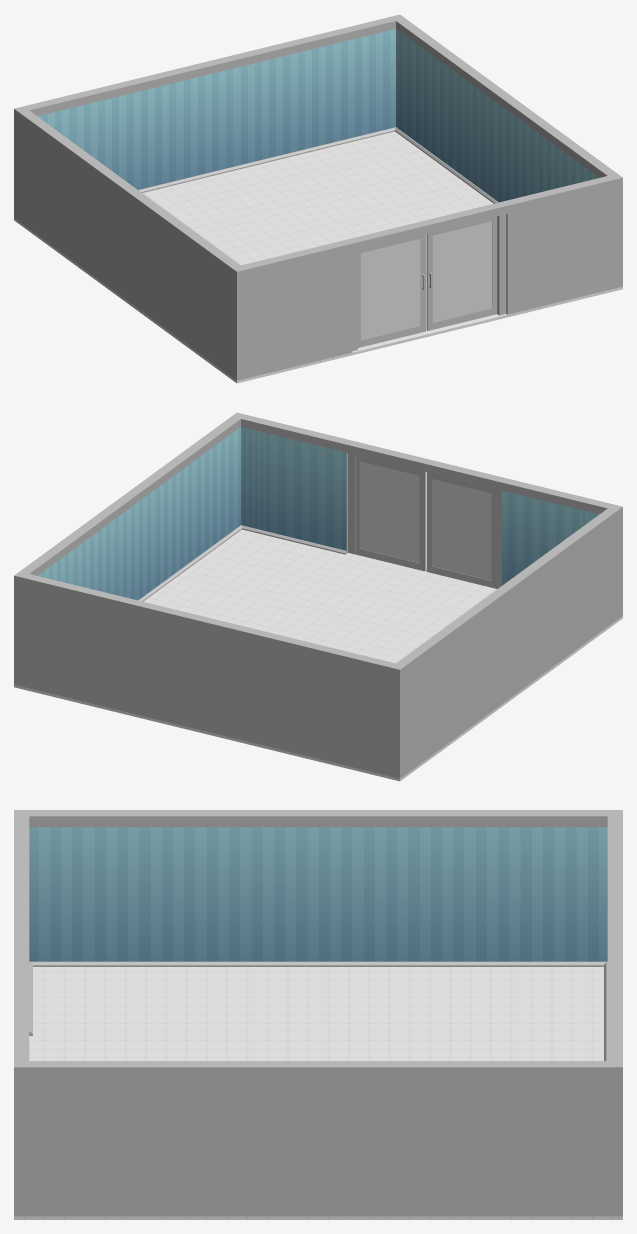
The model's file is Kitchen.fbx.
3 views of the same model, one above another, from view 1: azimuth 30°, elevation 25°; view 2: azimuth 150°, elevation 25°; view 3: azimuth 270°, elevation 25° (orthographic). The views are drawn at different scales.
Parts seen in each view (by area): view 1: Wall Back, Ground, Wall R, Cube.002, Wall L, Wall Front 1.001, Wall Front 2.001, Door L, Door R, Wall Front R Corner, Wall Front L Corner, Wall L Corner (+4 smaller); view 2: Wall Back, Ground, Wall R, Cube.002, Wall L, Wall Front 1.001, Door R, Door L, Wall R Corner, Wall Front 2.001, Wall Front L Corner, Wall L Corner (+4 smaller); view 3: Wall L, Wall R, Ground, Cube.002, Wall L Corner, Wall Front L Corner, Wall R Corner, Wall Front R Corner, Ground Detail.
Part boxes in pixels (<box>): Wall Back: <box>51,34,373,189</box>; Ground: <box>14,131,622,383</box>; Wall R: <box>32,130,218,366</box>; Cube.002: <box>14,14,622,279</box>; Wall L: <box>409,38,594,202</box>; Wall Front 1.001: <box>506,195,585,314</box>; Wall Front 2.001: <box>274,252,352,371</box>; Door L: <box>426,216,497,330</box>; Door R: <box>358,233,425,347</box>; Wall Front R Corner: <box>218,266,274,380</box>; Wall Front L Corner: <box>585,174,622,295</box>; Wall L Corner: <box>373,29,408,136</box>; Wall Back: <box>46,591,367,770</box>; Ground: <box>14,529,622,781</box>; Wall R: <box>418,528,604,764</box>; Cube.002: <box>14,412,622,677</box>; Wall L: <box>42,436,227,600</box>; Wall Front 1.001: <box>269,434,347,553</box>; Door R: <box>426,472,496,588</box>; Door L: <box>355,455,425,571</box>; Wall R Corner: <box>368,664,418,778</box>; Wall Front 2.001: <box>502,490,579,585</box>; Wall Front L Corner: <box>228,427,268,534</box>; Wall L Corner: <box>14,572,46,692</box>; Wall L: <box>64,1078,572,1216</box>; Wall R: <box>64,827,572,961</box>; Ground: <box>14,967,622,1219</box>; Cube.002: <box>14,810,622,1078</box>; Wall L Corner: <box>572,1078,622,1216</box>; Wall Front L Corner: <box>14,1078,64,1216</box>; Wall R Corner: <box>572,827,607,961</box>; Wall Front R Corner: <box>29,827,64,961</box>; Ground Detail: <box>29,961,607,1060</box>.
Size of the model in its own units: 1200 by 332 by 1200.
